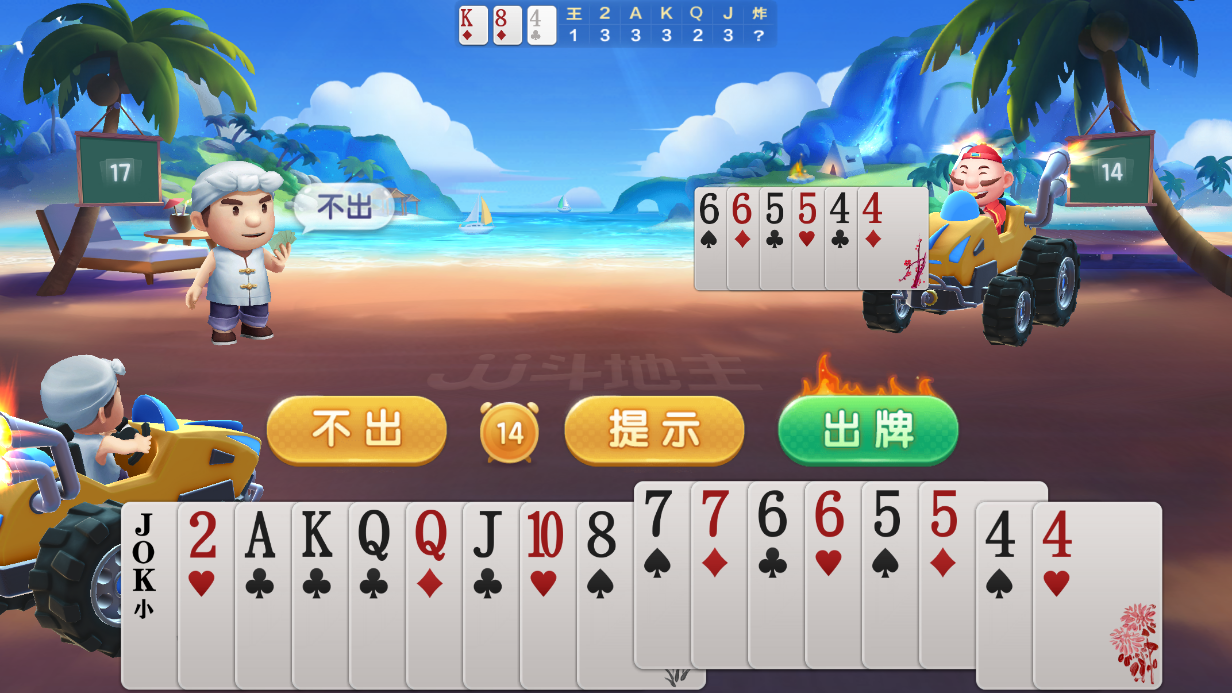A: (239, 508, 285, 565)
J: (466, 507, 509, 566)
K: (296, 506, 341, 565), (456, 3, 479, 30)
Q: (409, 507, 454, 566), (354, 507, 396, 566)
eight: (580, 508, 626, 566), (493, 4, 510, 31)
five: (867, 487, 910, 546), (924, 486, 966, 545), (794, 190, 822, 227), (762, 190, 789, 228)
four: (978, 504, 1024, 564), (1036, 507, 1081, 563), (859, 189, 889, 228), (826, 189, 855, 228), (526, 5, 546, 30)
joker: (125, 508, 165, 597)
seven: (636, 485, 681, 546), (694, 486, 738, 544)
six: (752, 486, 798, 545), (809, 488, 852, 543), (695, 188, 725, 228), (728, 189, 757, 228)
ten: (522, 507, 568, 564)
two: (181, 508, 227, 564)
